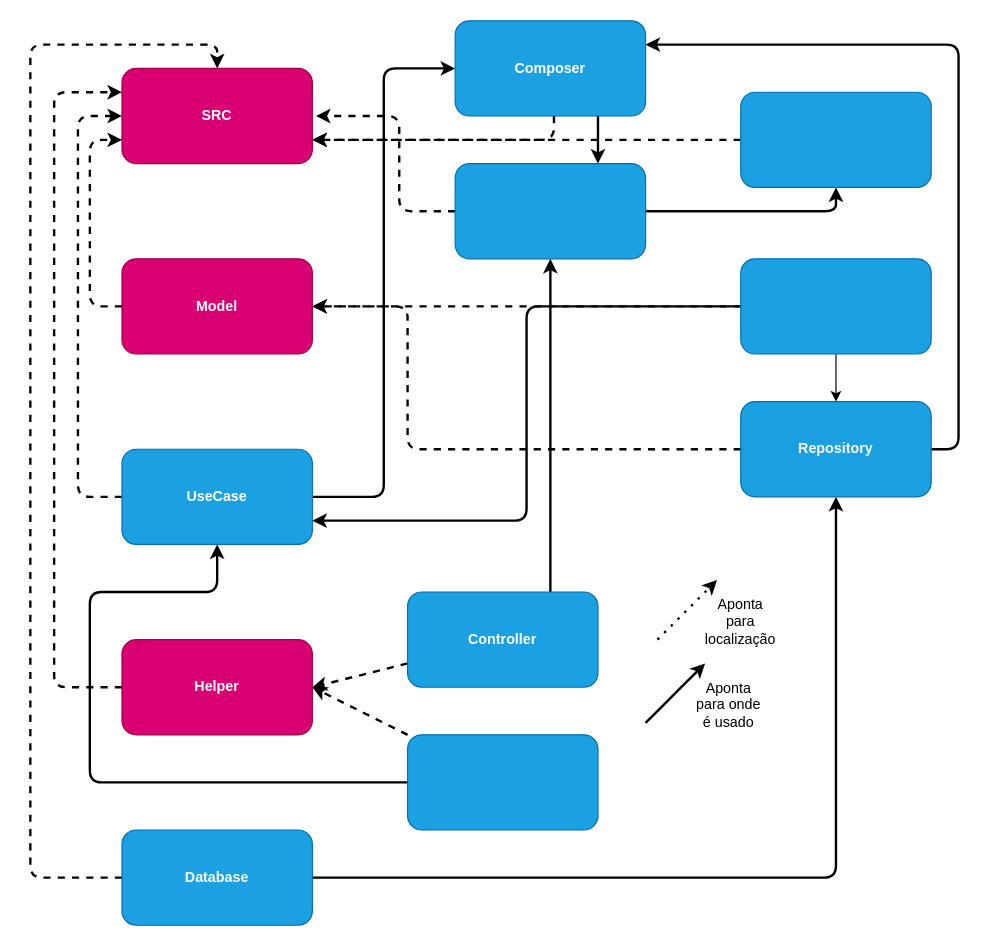
The diagram is 989 pixels wide and 946 high, and some of its shapes have lost their labels. Here are the shapes that lost their labels. From the top down, the centre of each, then its label:
At (835,139): "Express".
At (550,210): "Router".
At (835,306): "Entity".
At (502,782): "Adapters".
